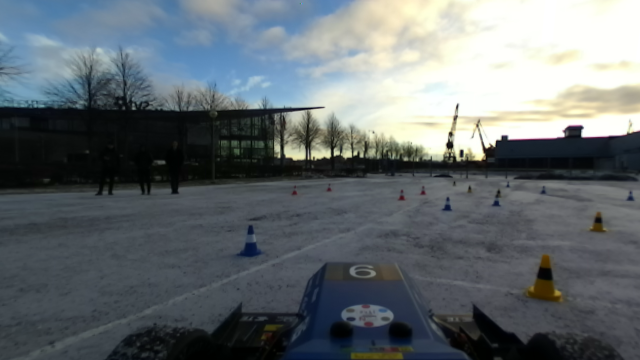blue: (236, 224, 264, 259), (440, 195, 453, 212), (490, 193, 501, 210), (536, 183, 548, 195), (625, 190, 636, 201)
orange: (290, 182, 300, 197), (323, 182, 334, 193), (397, 188, 406, 200), (419, 183, 428, 195)
yellow: (524, 250, 564, 303), (587, 211, 605, 230)
